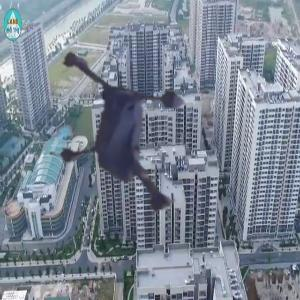drone: (42, 48, 244, 250)
